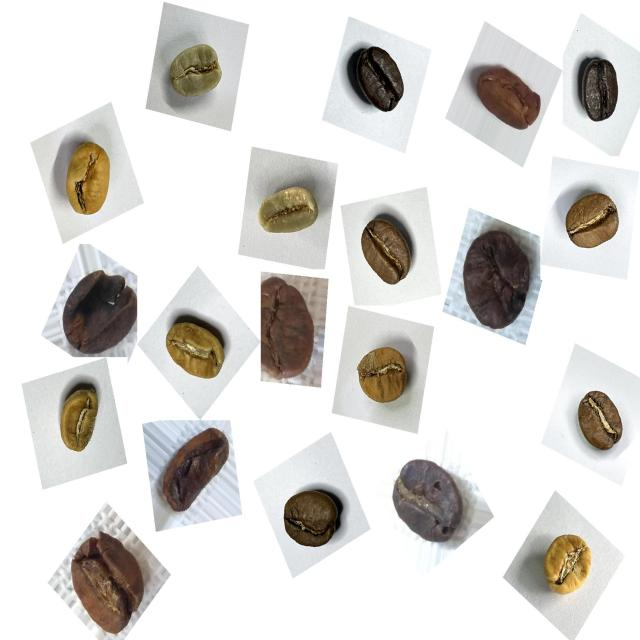bad: (60, 521, 153, 639), (451, 217, 538, 340), (246, 271, 328, 397), (51, 256, 144, 364), (384, 448, 472, 552), (152, 421, 237, 527), (466, 51, 545, 140)
dark: (340, 35, 414, 125), (566, 47, 629, 134)
green: (158, 32, 231, 114), (253, 168, 325, 251)
light: (49, 126, 124, 230), (156, 304, 236, 396), (530, 518, 605, 610), (344, 329, 417, 416), (44, 375, 110, 467)
medium: (273, 477, 351, 564), (350, 209, 424, 293), (557, 181, 628, 263), (566, 382, 635, 462)
